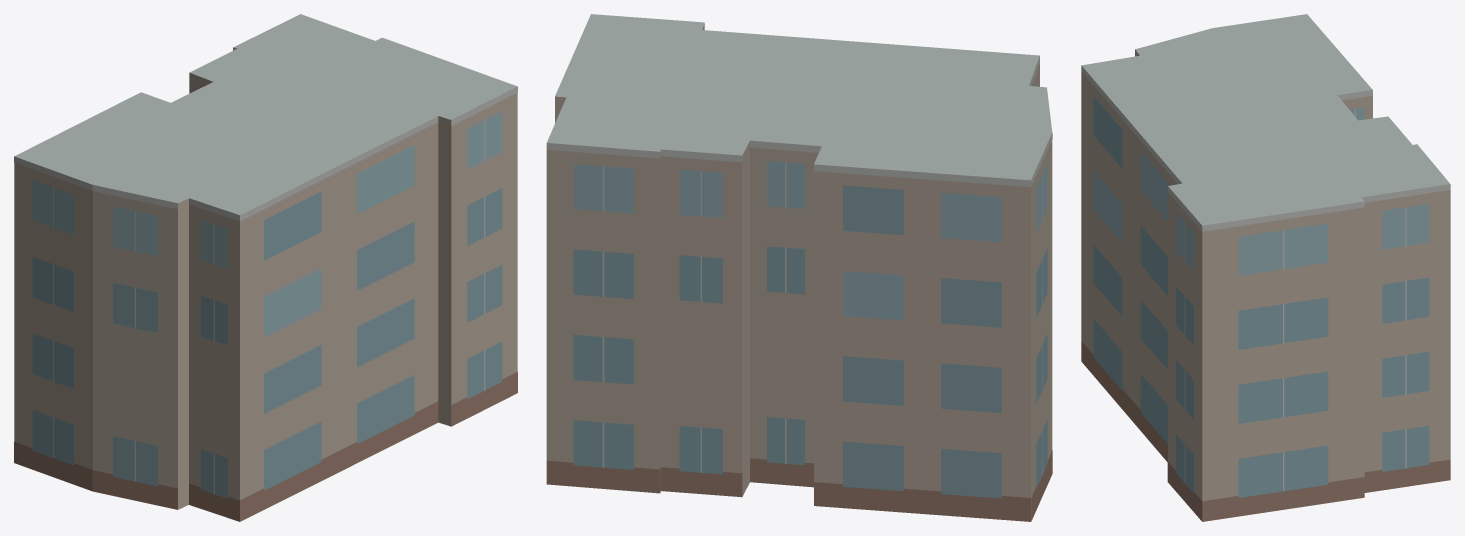
Rendered from survey-upis-32565108.glb.
3 renders of one model, left to right at view 1: azimuth 30°, elevation 25°; view 2: azimuth 150°, elevation 25°; view 3: azimuth 270°, elevation 25°, orthographic. The views are drawn at different scales.
Visible parts, largest first — view 1: survey-upis-32565108.tmp; view 2: survey-upis-32565108.tmp; view 3: survey-upis-32565108.tmp.
Part boxes in pixels (<box>): survey-upis-32565108.tmp: <box>14,14,517,521</box>; survey-upis-32565108.tmp: <box>546,14,1052,521</box>; survey-upis-32565108.tmp: <box>1081,14,1450,521</box>.
Size of the model in its own units: 18.72 by 12.2 by 13.79.
